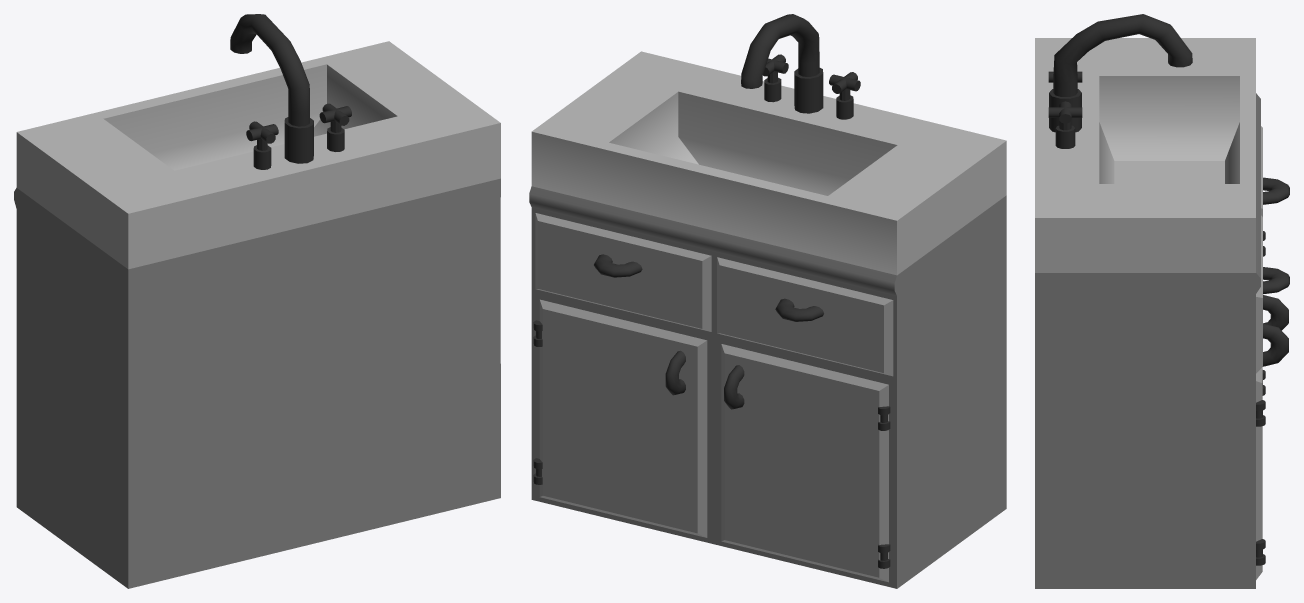
The model's file is KitchenSinkModel.fbx.
3 renders of one model, left to right at view 1: azimuth 30°, elevation 25°; view 2: azimuth 150°, elevation 25°; view 3: azimuth 270°, elevation 25°, orthographic.
Parts seen in each view (by area): view 1: KitchenSinkModel; view 2: KitchenSinkModel; view 3: KitchenSinkModel.
Part boxes in pixels (x1,y1,x2,y2): KitchenSinkModel: [14, 14, 500, 588]; KitchenSinkModel: [529, 14, 1006, 588]; KitchenSinkModel: [1035, 14, 1289, 588].
Size of the model in its own units: 118 by 148 by 70.48.
